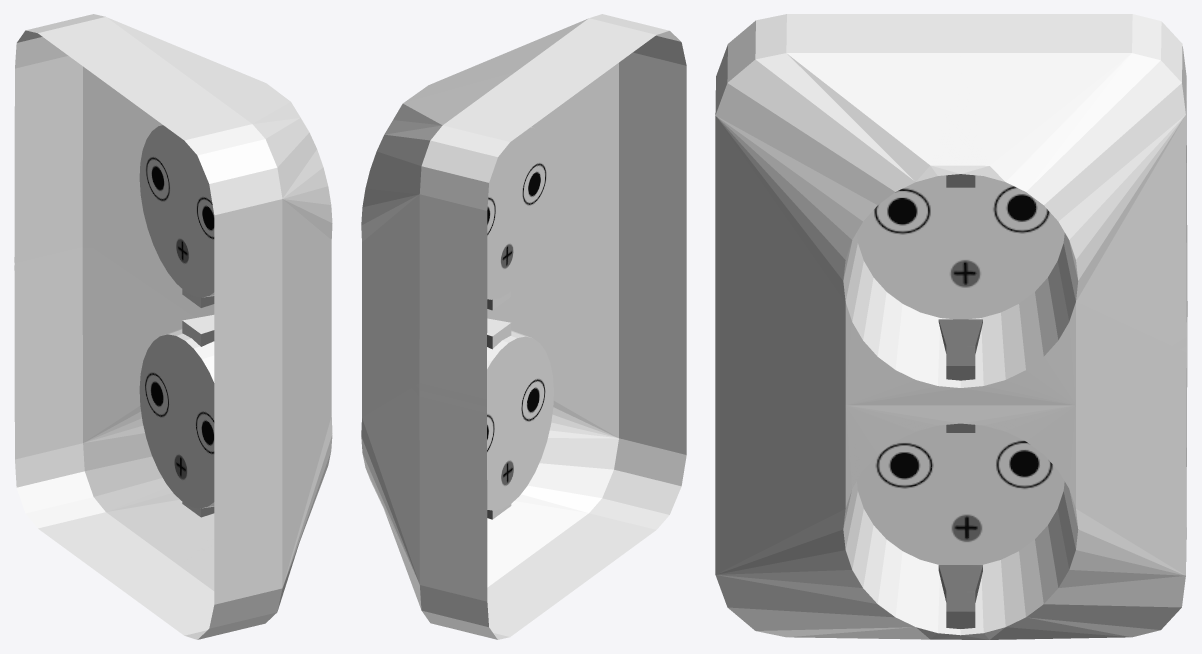
File: Outlet.fbx
3 renders of one model, left to right at view 1: azimuth 30°, elevation 25°; view 2: azimuth 150°, elevation 25°; view 3: azimuth 270°, elevation 25°, orthographic. The views are drawn at different scales.
Visible parts, largest first — view 1: Outlet; view 2: Outlet; view 3: Outlet.
Boxes of the visible parts, bbox=[...] form: Outlet: bbox=[14, 14, 332, 639]; Outlet: bbox=[361, 14, 686, 639]; Outlet: bbox=[715, 14, 1187, 639].
Bounding box in the file's own units: 1.29 × 3.53 × 2.58.
